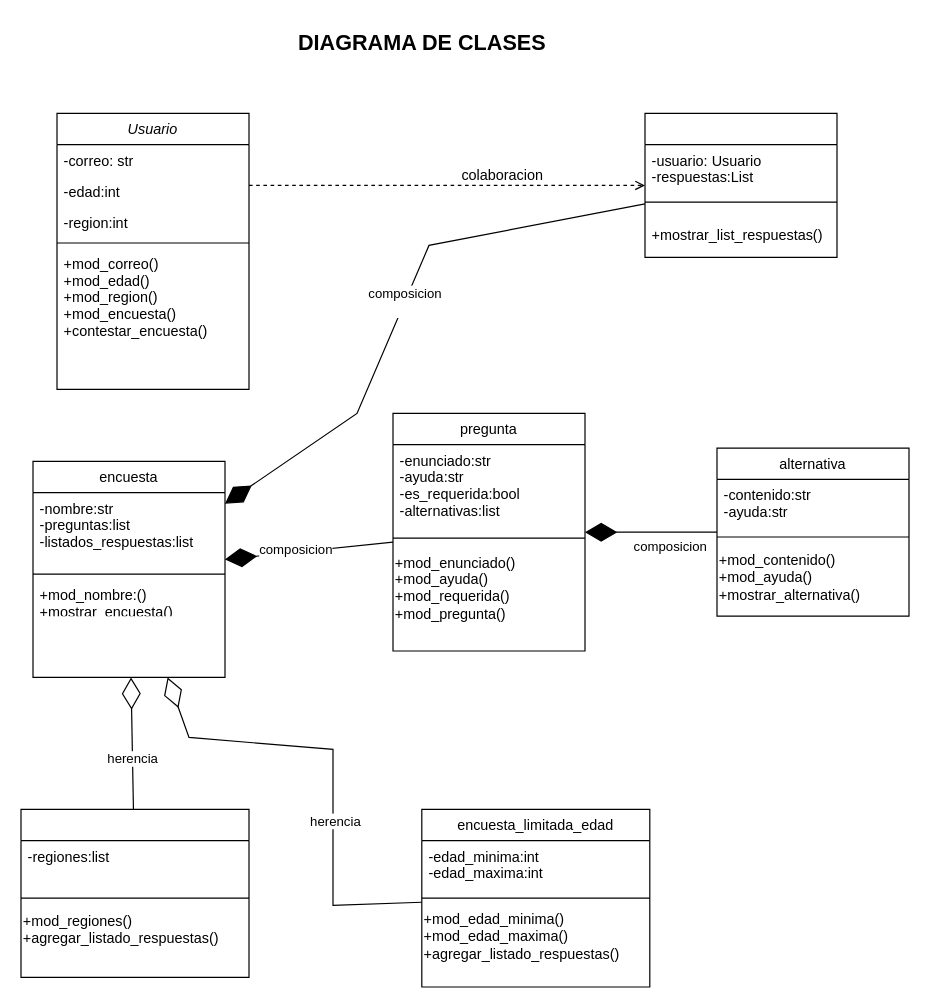
Some shapes in this 930 by 1008 pixel diagram are drawn without their labels. The shapes that lost their labels are listed below. From the top down, each one's box as (x1, y1, x2, y2) in pixels, then its label:
(644, 112, 837, 257): Listado Respuestas
(20, 808, 249, 977): encuesta_limitada_region
